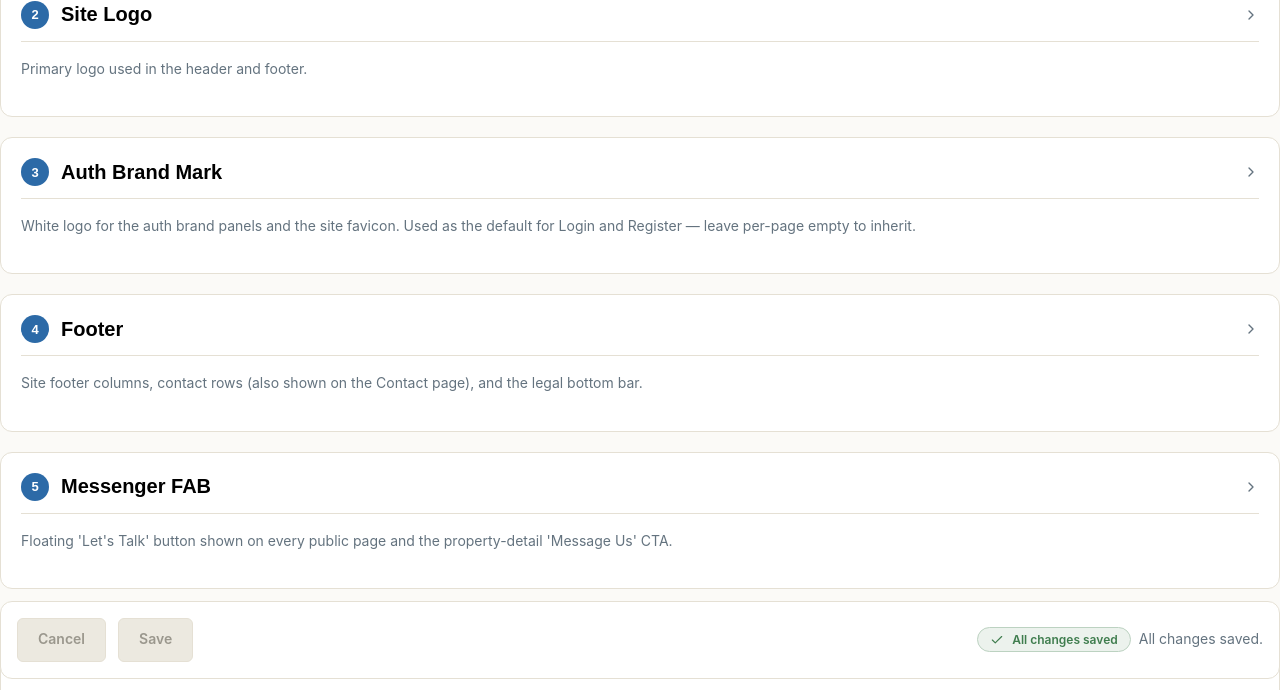
Test case: CmsGlobalPage — Global Content CMS › anchor nav and collapsible sections work
(page scrolled)
Click the button "4 Footer".
click(92, 329)  # box [21, 316, 1259, 356]
(page scrolled)
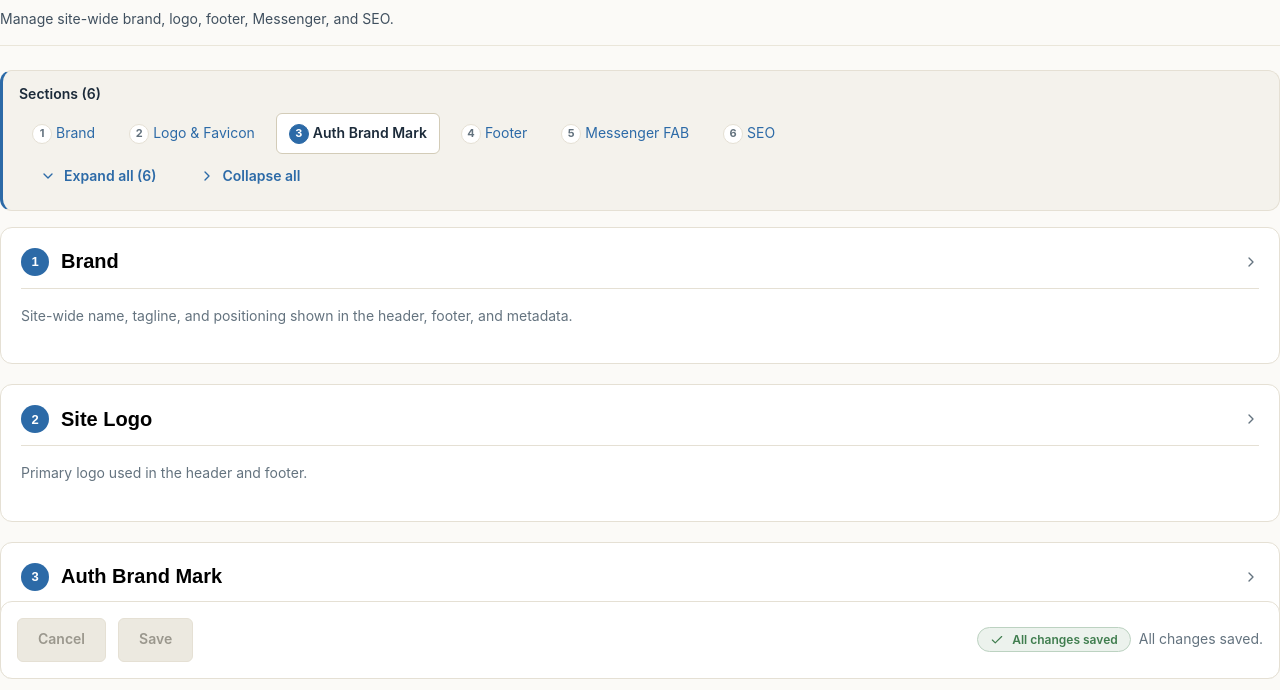
Click the button "Collapse all".
click(249, 176)  # box [178, 154, 321, 198]
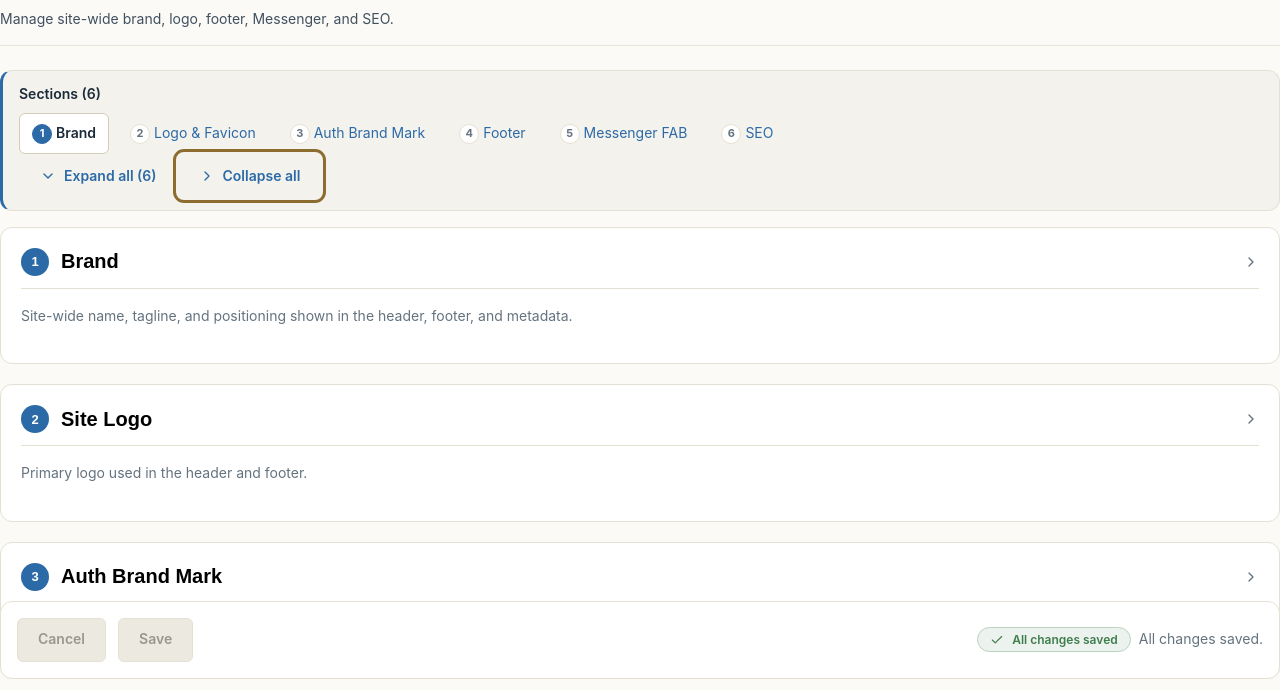
Expected: the text "info.jaandd@gmail.com" is not shown
Click the button "Expand all (6)".
click(98, 176)  # box [19, 154, 178, 198]
(page scrolled)
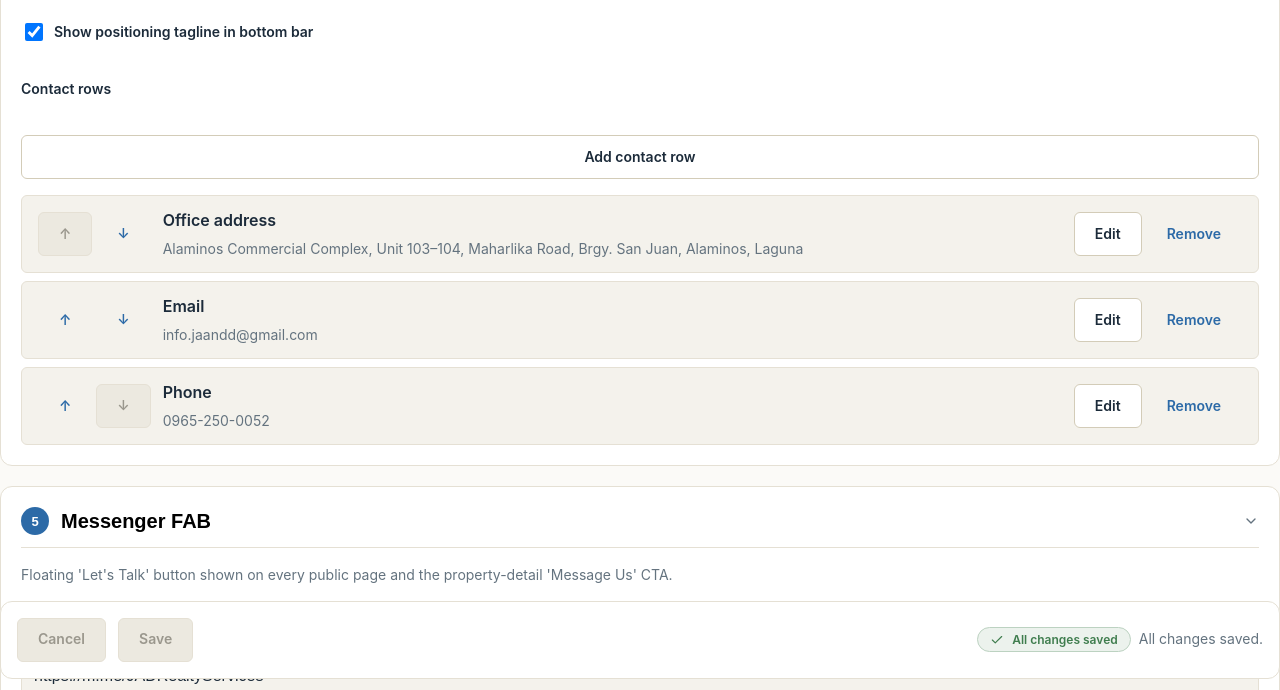
Expected: the text "info.jaandd@gmail.com" is shown, [163, 326, 318, 343]
